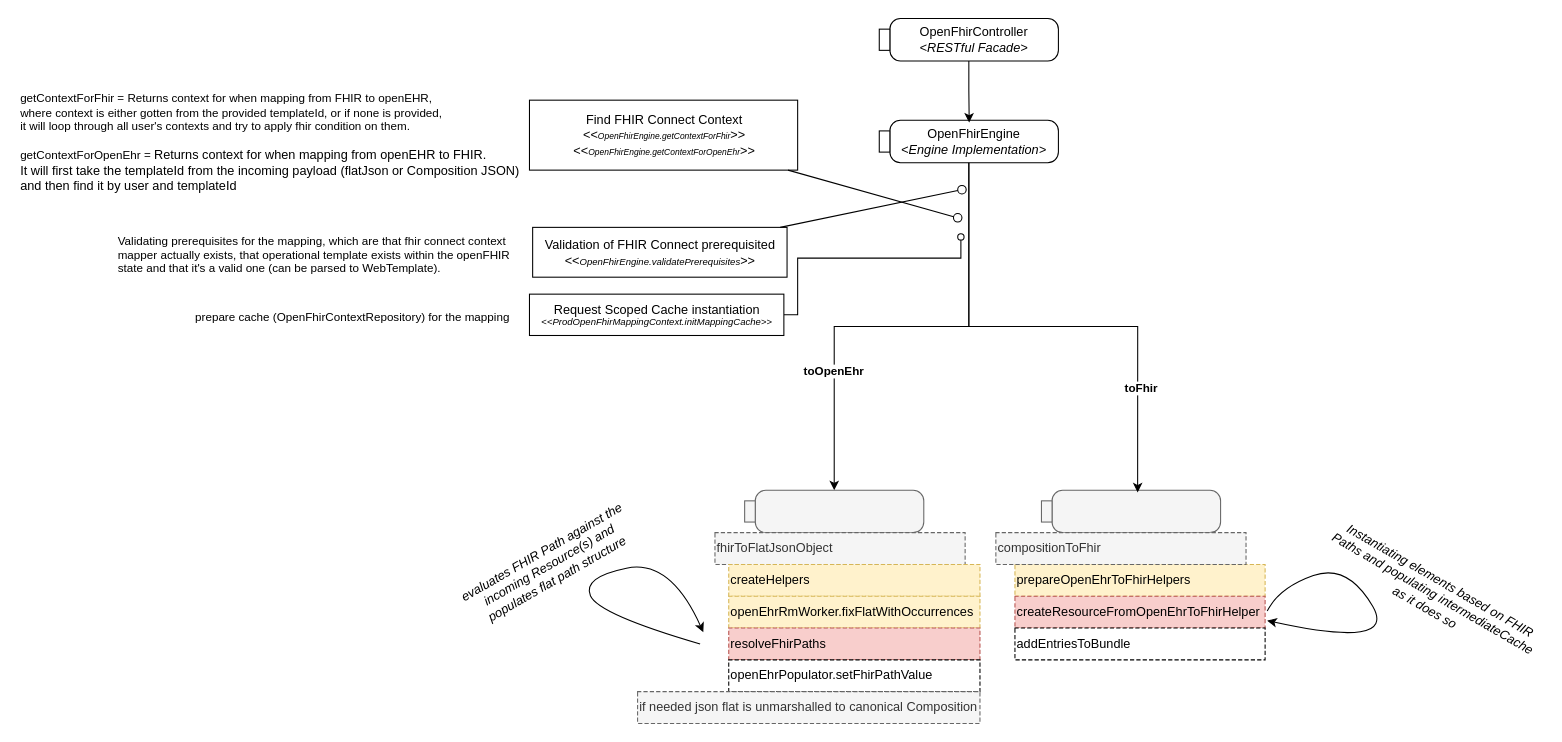
This 1562x742 diagram has some shape labels left out. Each missing label, with the centre of its shape:
FhirToOpenEhr: pixel 834 511
OpenEhrToFhir: pixel 1130 511
